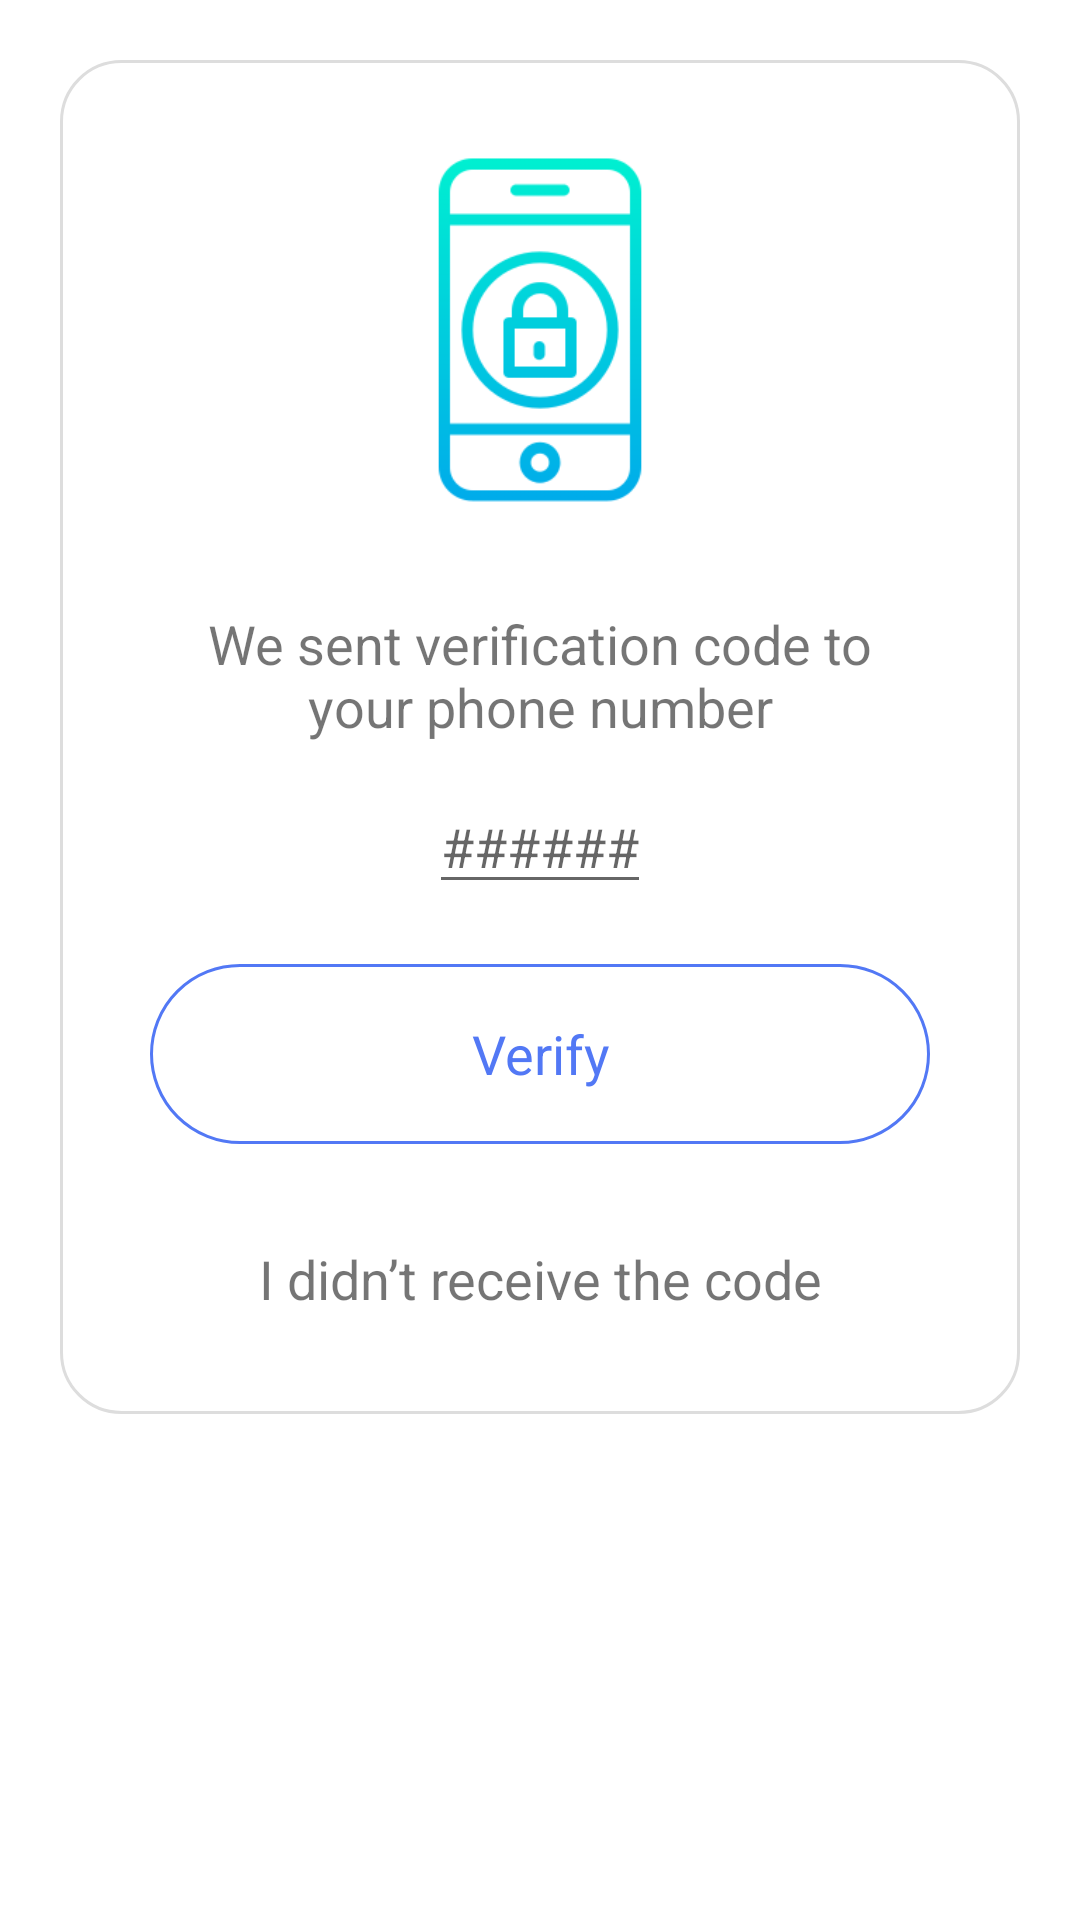

Icon bounding boxes for this 1080 x 1920 phone screenshot, format (x1, y1, x2, y2):
passcode: (438, 158, 642, 502)
